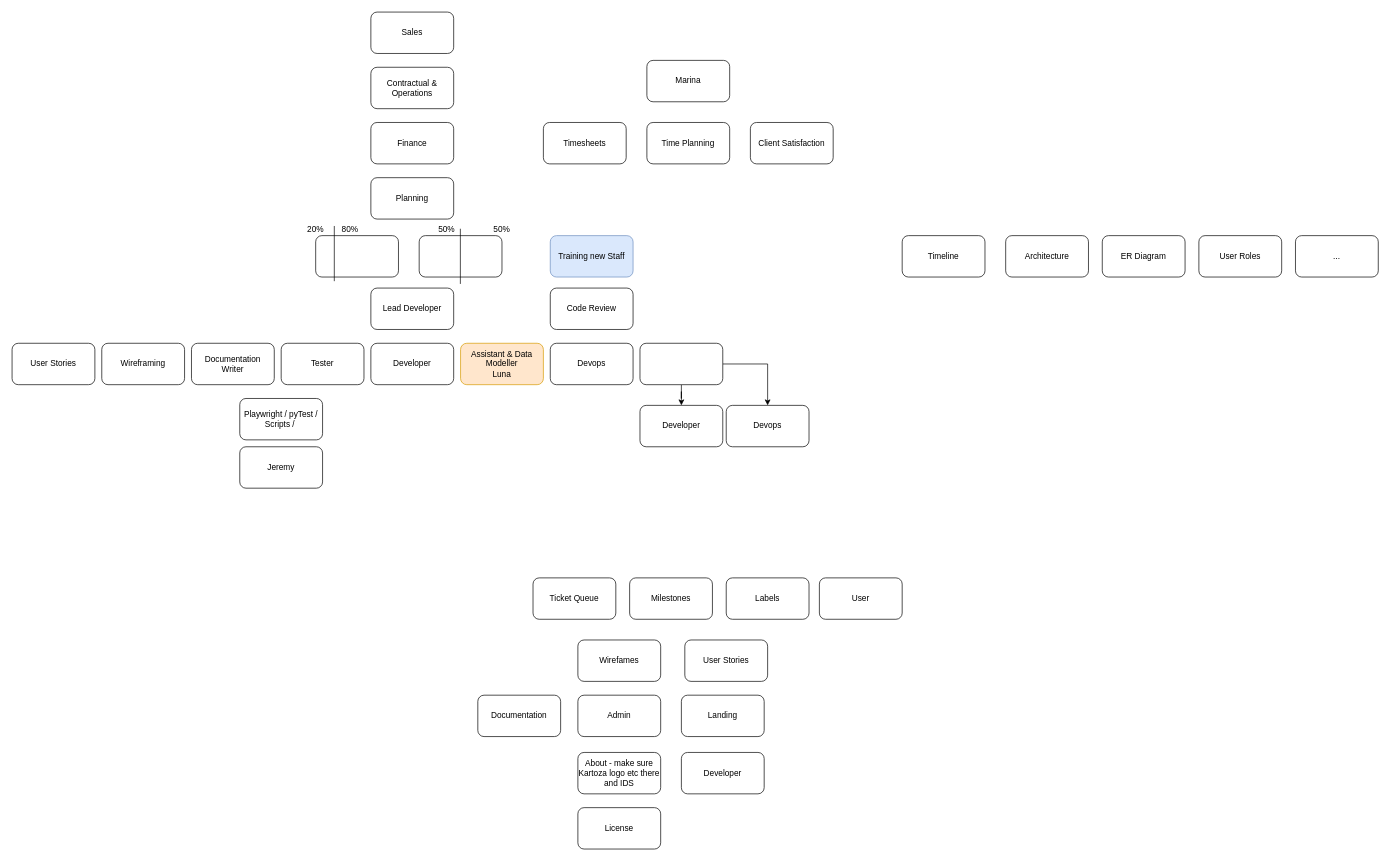
The diagram is 1390 pixels wide and 861 high, and some of its shapes have lost their labels. The centre of each missing label's shape, as x and y in pixels:
"Support Seabilwe - 1st Line" belongs at (x=681, y=364).
"Team Lead Amy" belongs at (x=460, y=256).
"Team Lead Eli" belongs at (x=356, y=256).
